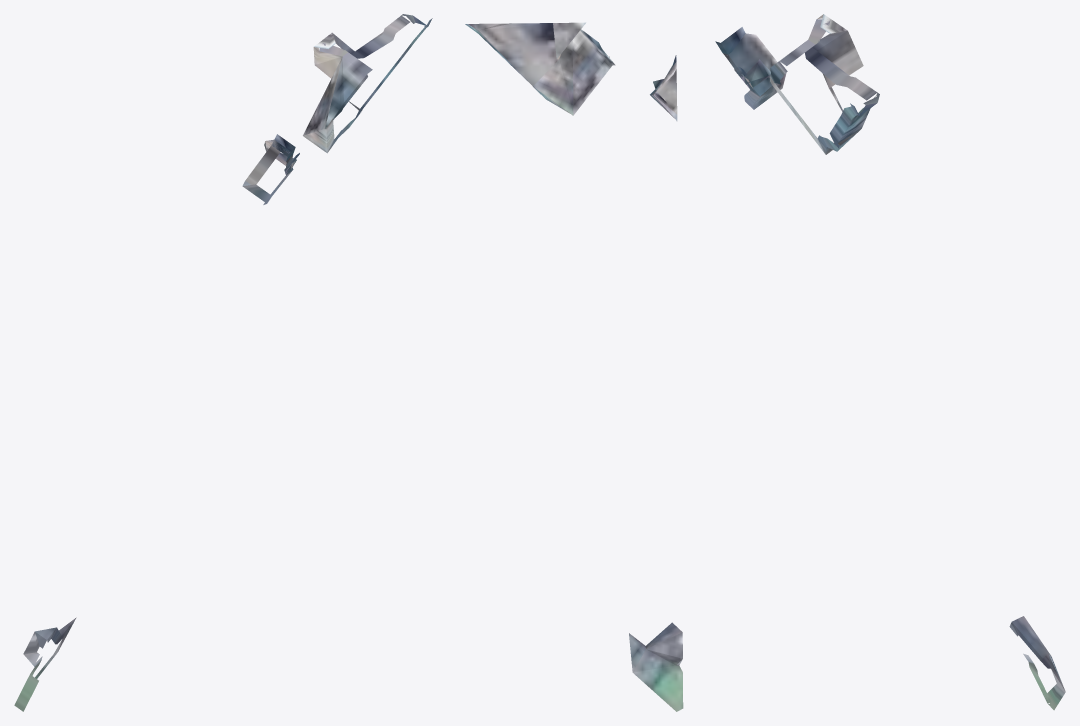
3 renders of one model, left to right at view 1: azimuth 30°, elevation 25°; view 2: azimuth 150°, elevation 25°; view 3: azimuth 270°, elevation 25°, orthographic. The views are drawn at different scales.
Size of the model in its own units: 62.22 by 120 by 46.71.
1 material, 1 textured.
